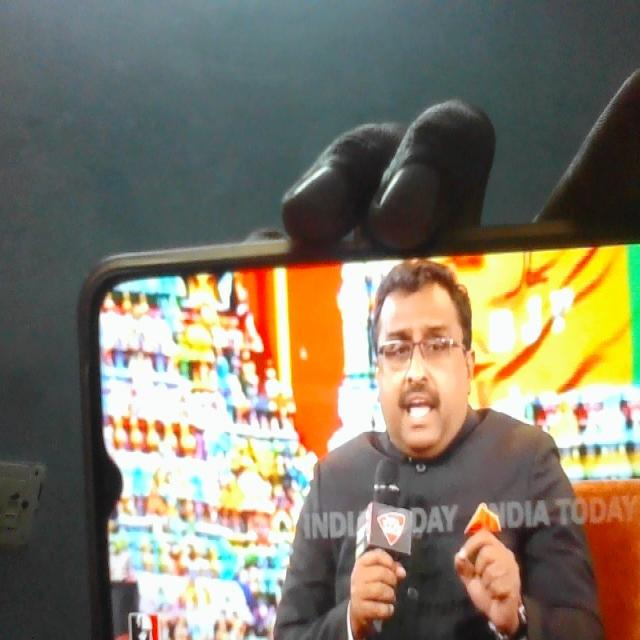fake: (370, 249, 481, 460)
